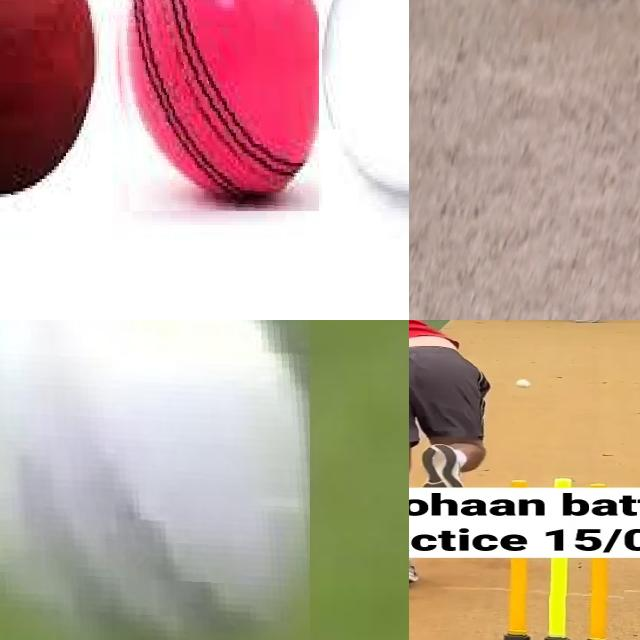Cricket ball: (0, 320, 310, 640), (108, 0, 319, 211), (0, 0, 100, 204), (322, 0, 409, 209), (515, 379, 532, 388)
Stumps: (494, 557, 624, 640)
